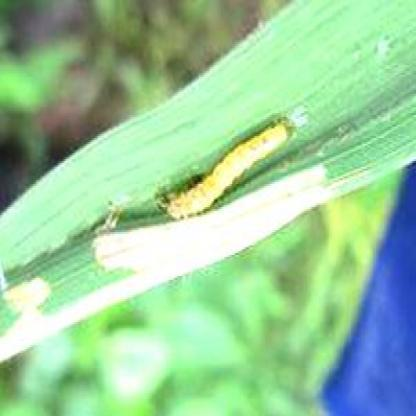leaf-folder: (157, 102, 294, 218)
